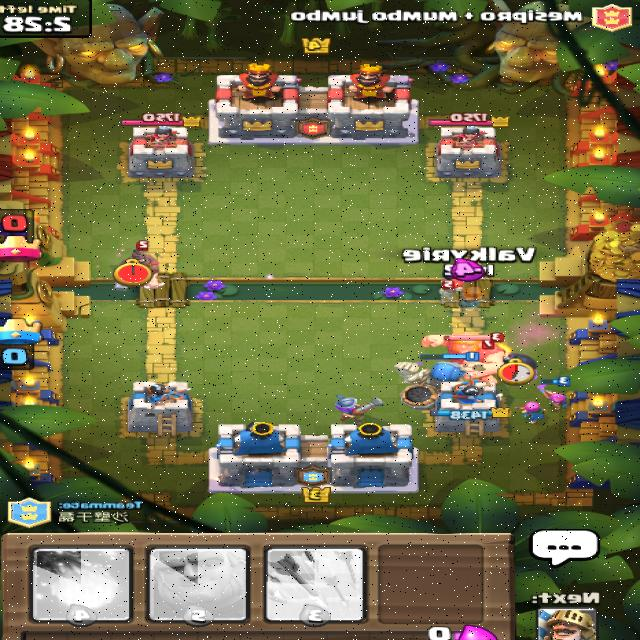Enemy-Bomber: (441, 278, 467, 301)
Enemy-Giant: (422, 331, 508, 380)
Enemy-GiantBomb: (497, 341, 540, 368)
Enemy-HogRider: (113, 239, 169, 294)
Player-Archer: (544, 375, 573, 411), (515, 400, 549, 424)
Player-GiantSkeleton: (394, 352, 481, 411)
Player-Musketeer: (335, 392, 387, 423)
